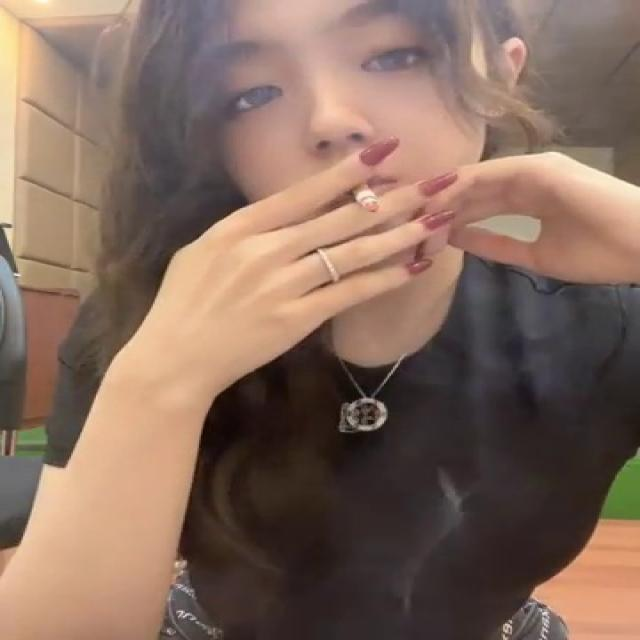Cigarette: (346, 180, 383, 214)
Hand: (158, 135, 462, 352)
Mouth: (329, 174, 404, 195)
